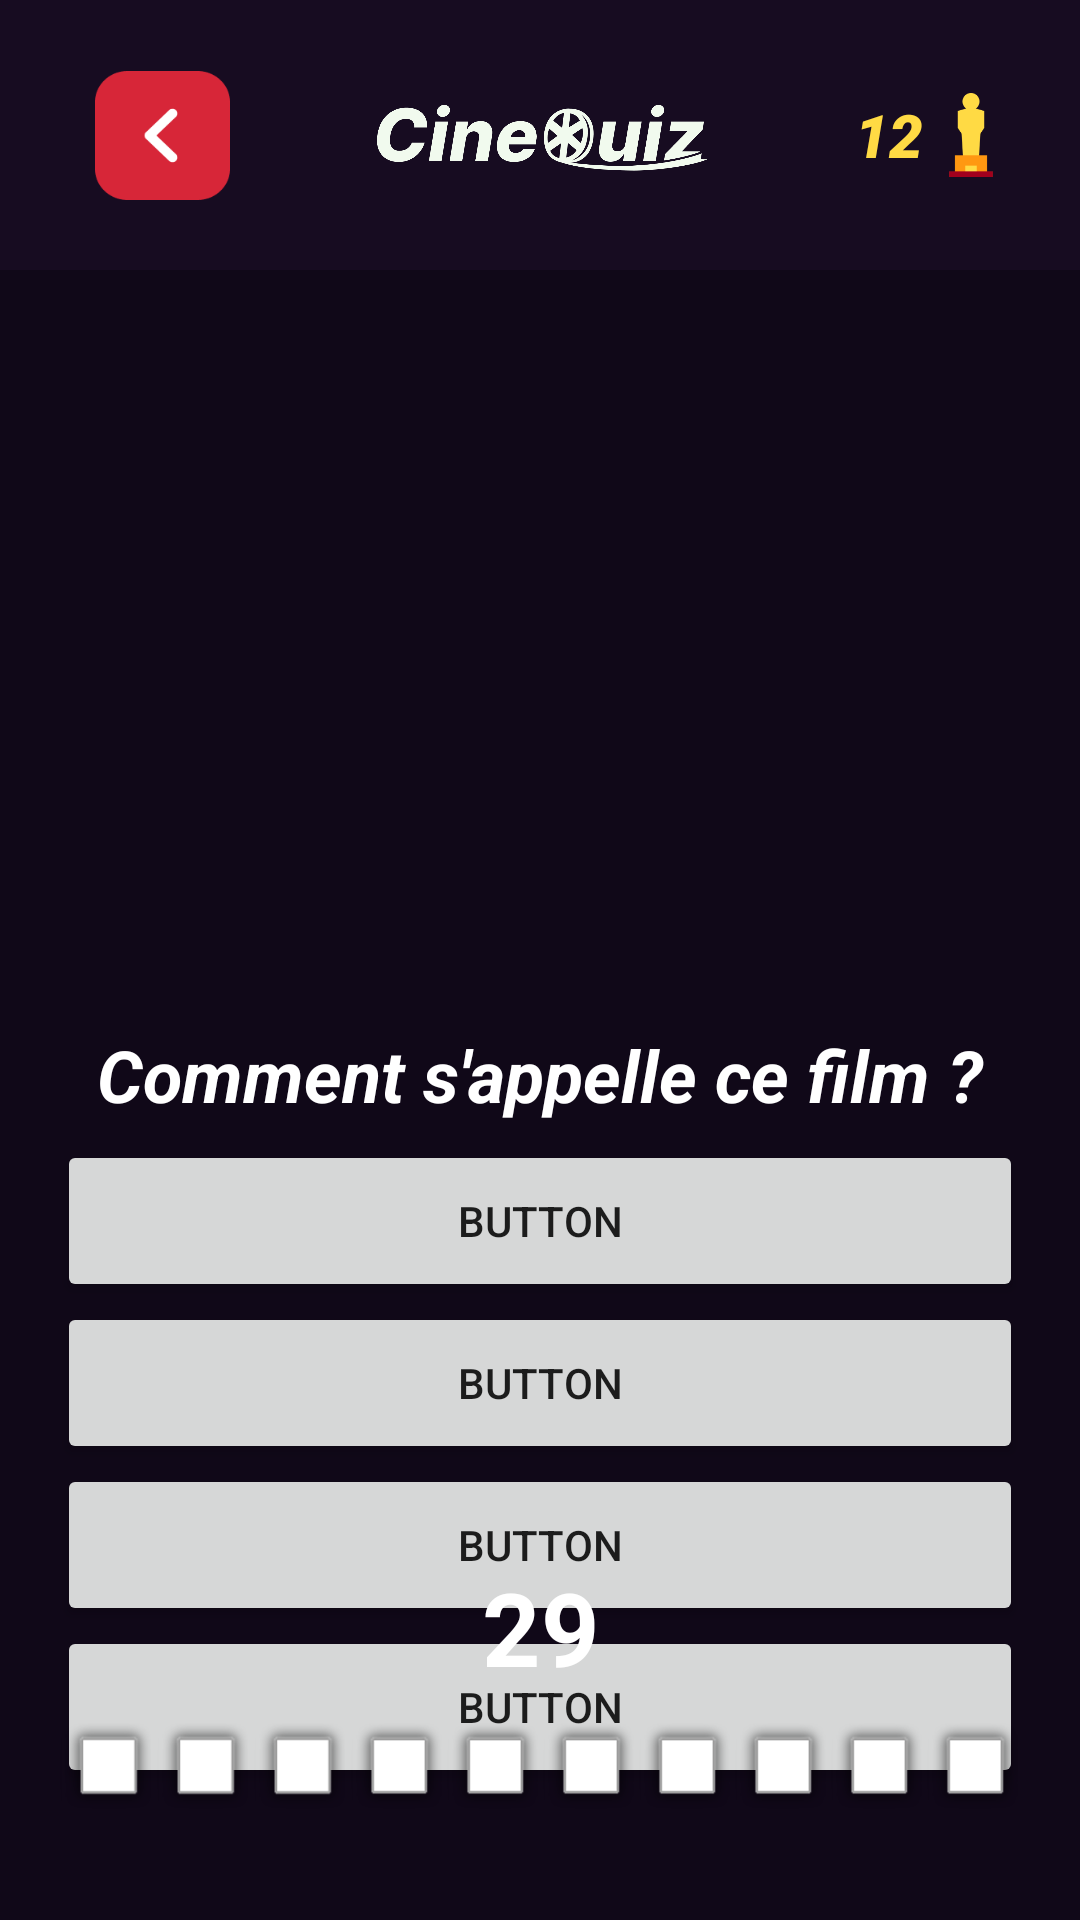

Screen size 1080px x 1920px. Icon name, then its box in pixels as (x1, y1, x2, y2):
back: (95, 71, 230, 200)
